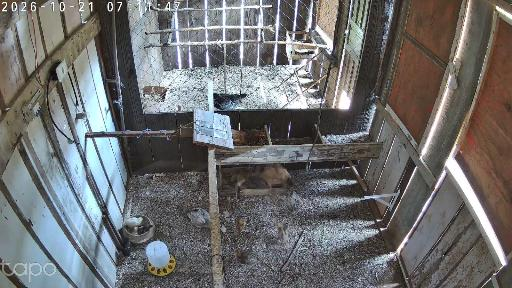frango: (189, 207, 211, 231)
galinha: (251, 164, 294, 191), (213, 92, 247, 110), (229, 130, 265, 146)
pintinho: (235, 247, 258, 268), (275, 221, 290, 245), (121, 236, 133, 258), (236, 169, 249, 187), (234, 218, 247, 235), (122, 217, 142, 228), (138, 223, 154, 235), (176, 205, 188, 215)
